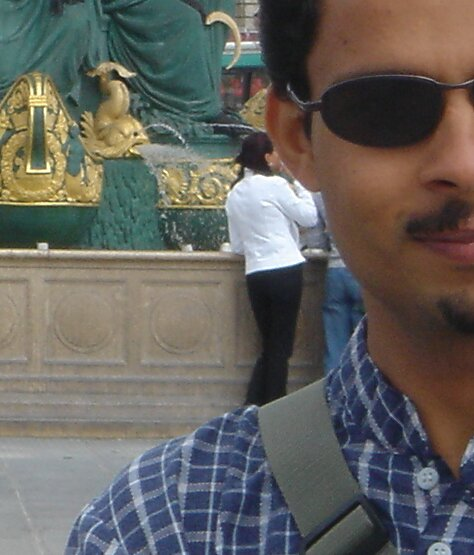person: (199, 2, 474, 555), (217, 129, 313, 404)
